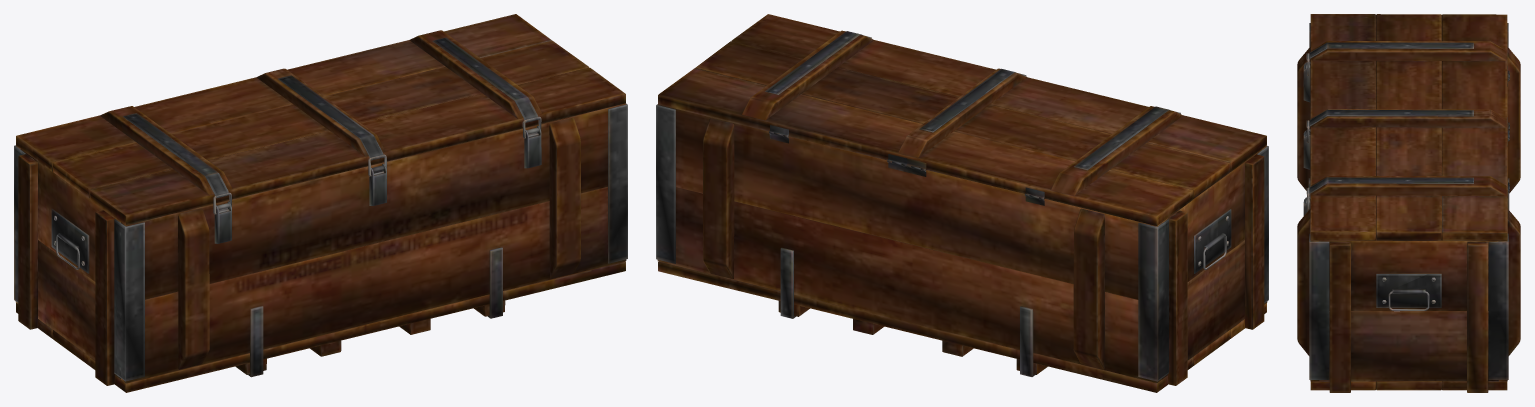
The model's file is military_crate.glb.
3 views of the same model, side by side, from view 1: azimuth 30°, elevation 25°; view 2: azimuth 150°, elevation 25°; view 3: azimuth 270°, elevation 25° (orthographic). The views are drawn at different scales.
Visible parts, largest first — view 1: wooden_military_crate, wooden_military_crate_lid; view 2: wooden_military_crate, wooden_military_crate_lid; view 3: wooden_military_crate_lid, wooden_military_crate.
Part boxes in pixels (<box>): wooden_military_crate: <box>14,103,627,392</box>; wooden_military_crate_lid: <box>16,14,625,224</box>; wooden_military_crate: <box>656,104,1268,392</box>; wooden_military_crate_lid: <box>658,14,1266,225</box>; wooden_military_crate_lid: <box>1306,14,1509,240</box>; wooden_military_crate: <box>1297,23,1520,392</box>.
Size of the model in its own units: 1.24 by 0.4639 by 0.5198.
Materials: 1 (1 with a texture image).
